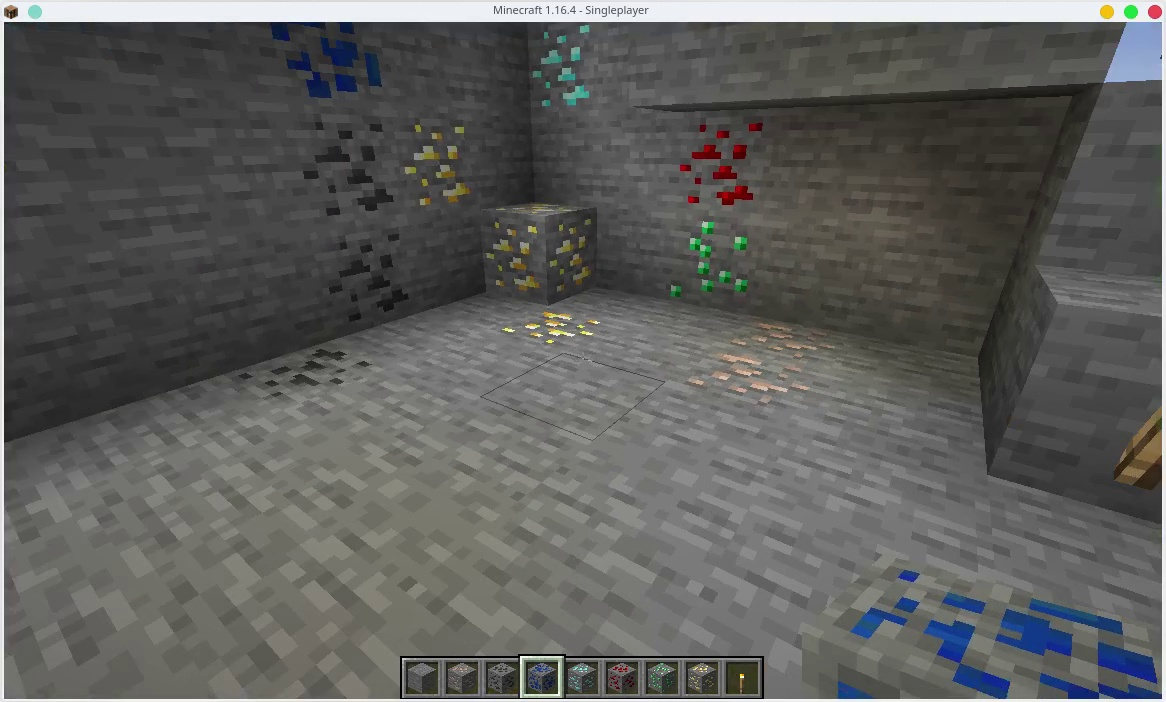gold: (486, 197, 594, 298), (406, 111, 479, 206), (497, 306, 612, 354), (685, 657, 721, 697)
